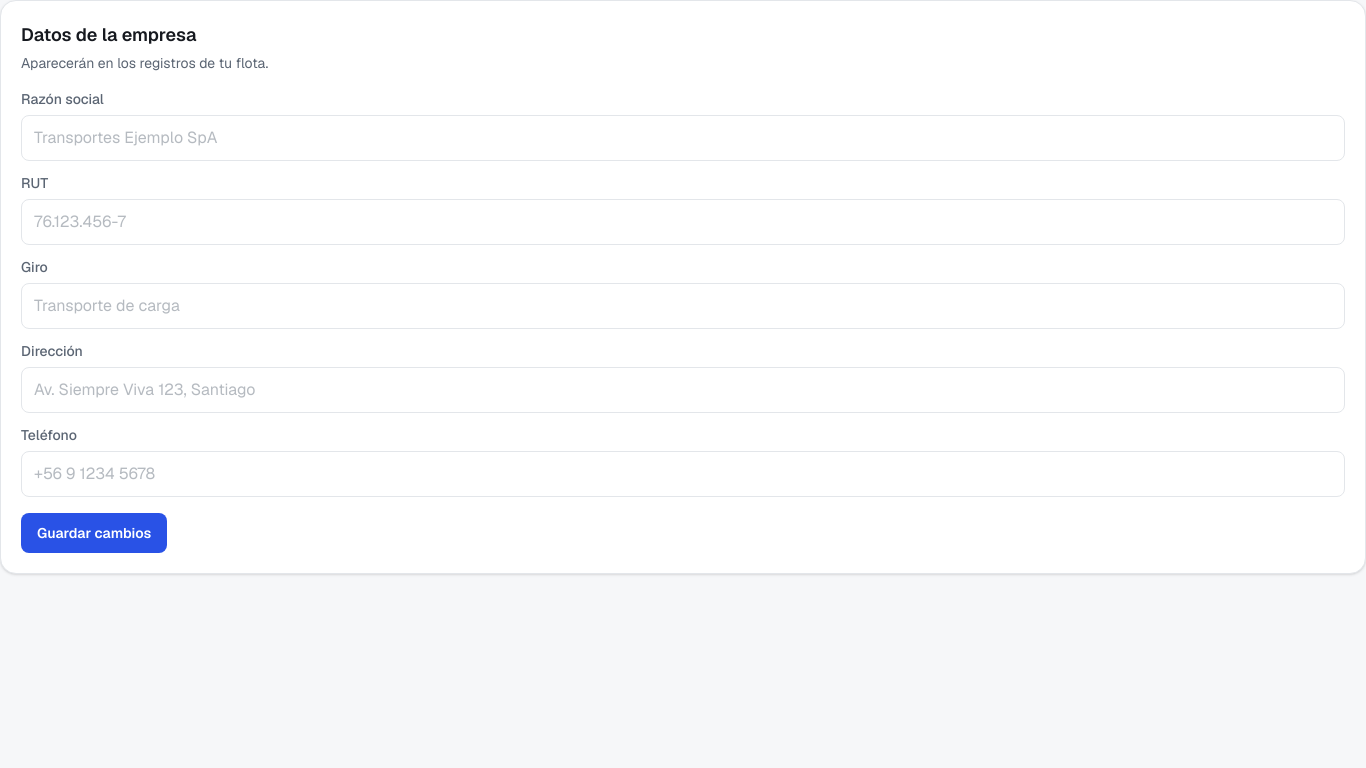
datos de la empresa › avisa al llenar la razón social por primera vez
In the field with placeholder "Transportes Ejemplo SpA": [683, 138] box [21,115,1345,161], type "Transportes Andes SpA"
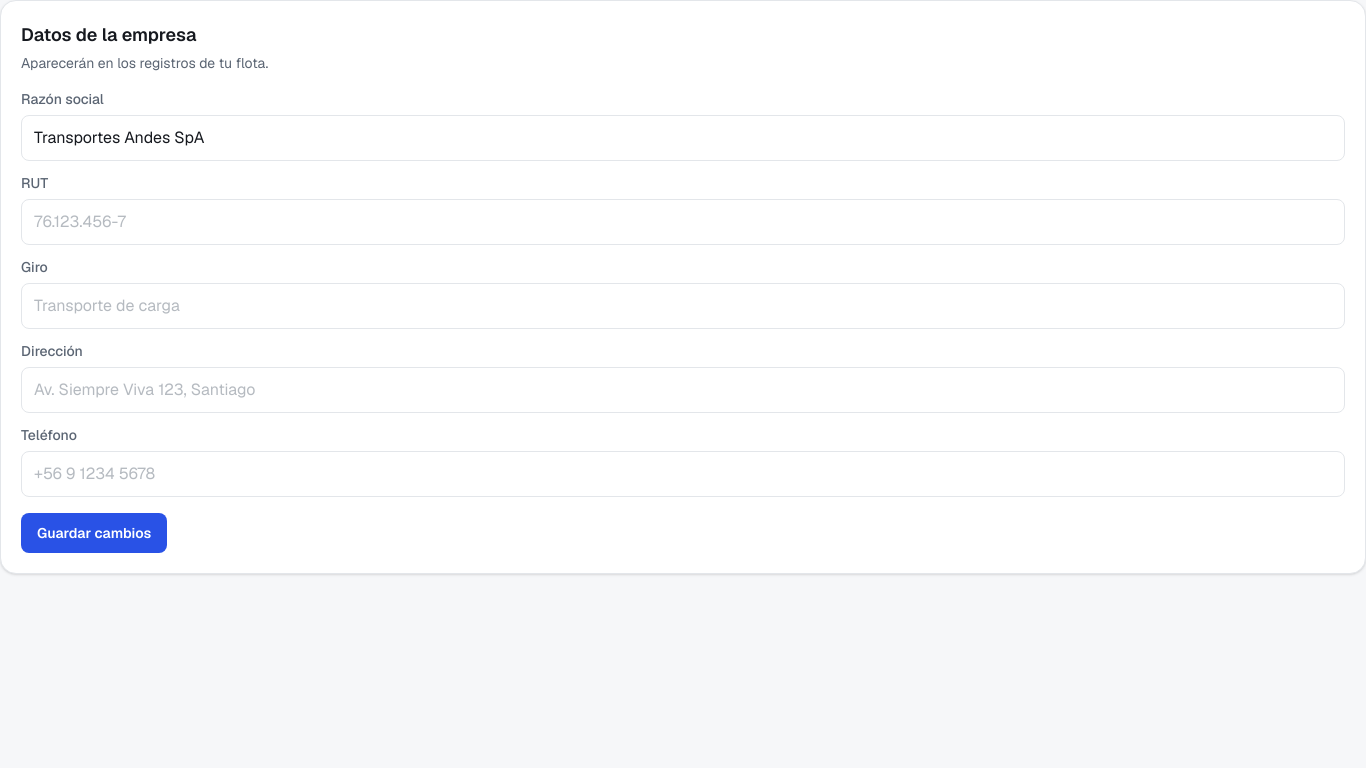
Click the button "Guardar cambios": [94, 533] box [21,513,167,553]
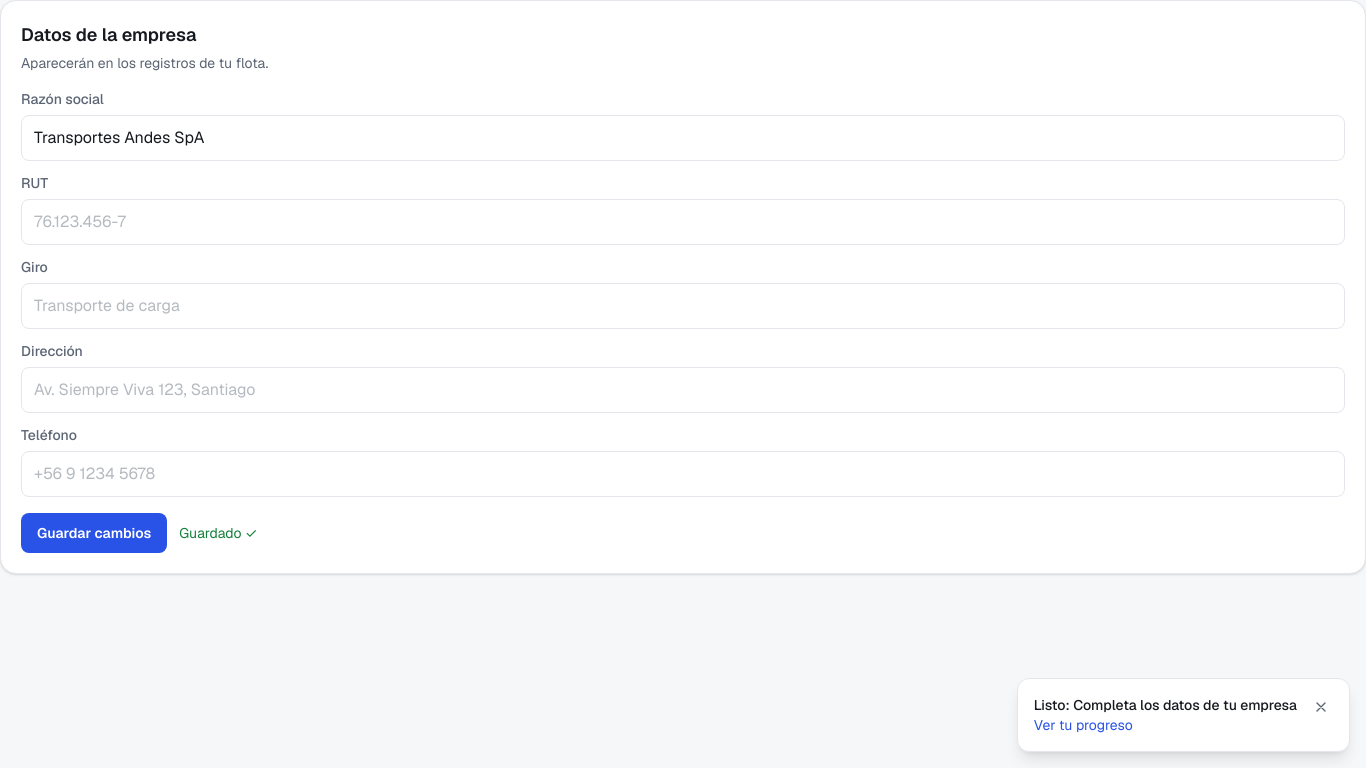
Check: the message shows "Completa los datos de tu empresa", box [1073,696,1297,714]
